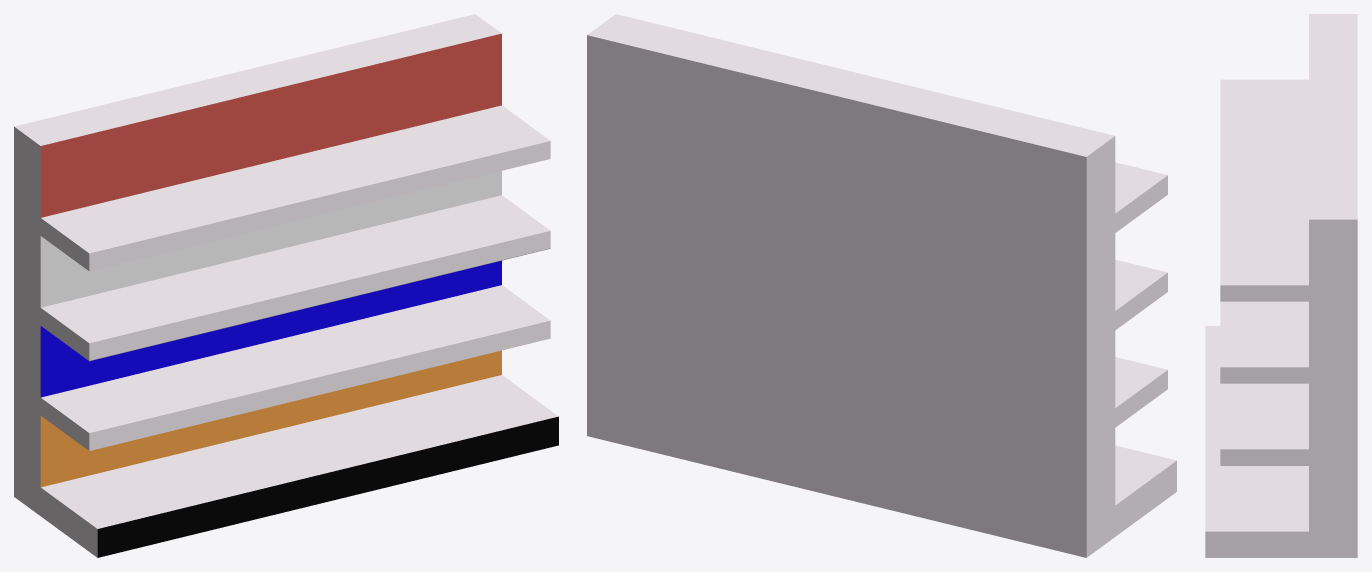
Rendered from SupermarktShelve_0.fbx.
3 renders of one model, left to right at view 1: azimuth 30°, elevation 25°; view 2: azimuth 150°, elevation 25°; view 3: azimuth 270°, elevation 25°, orthographic. The views are drawn at different scales.
Visible parts, largest first — view 1: Cube; view 2: Cube; view 3: Cube.
Boxes of the visible parts, left/top/right/bottom form: Cube: left=14, top=14, right=558, bottom=557; Cube: left=587, top=14, right=1176, bottom=557; Cube: left=1205, top=14, right=1357, bottom=557.
Bounding box in the file's own units: 1000 × 767 × 314.
